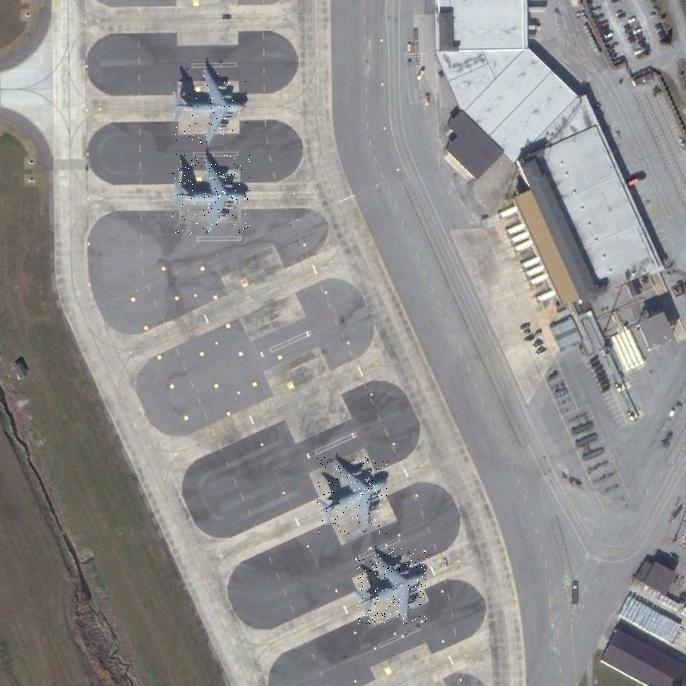A3: (172, 154, 250, 235), (171, 66, 247, 144), (317, 457, 388, 534), (357, 548, 427, 624)
